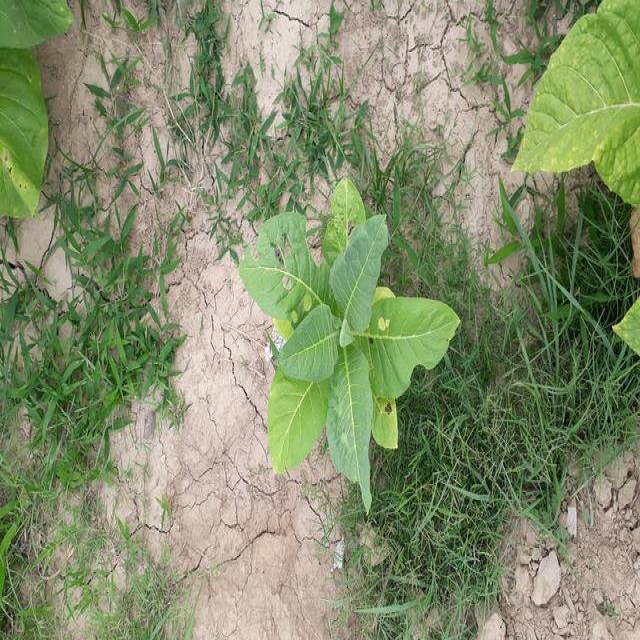crop: (244, 182, 456, 499), (504, 0, 640, 201)
